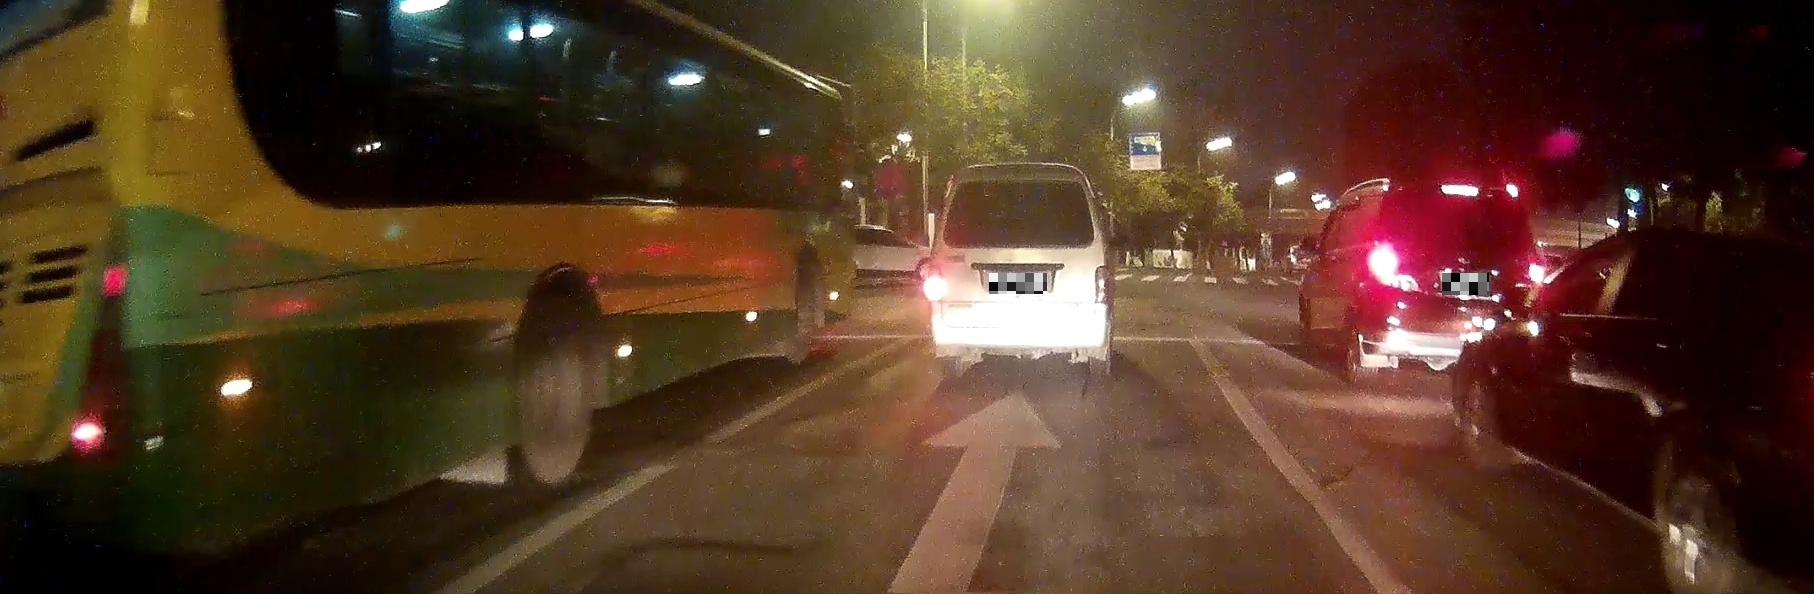L_light: (1367, 240, 1421, 289), (922, 274, 949, 301)
R_light: (1094, 265, 1111, 305), (1529, 261, 1547, 284)
T_light: (1440, 185, 1479, 195), (1006, 179, 1045, 184)
night-brake: (1357, 174, 1547, 391)
night-left: (922, 162, 1111, 382)
plate_1: (989, 273, 1047, 294)
plate_2: (1441, 273, 1489, 295)
